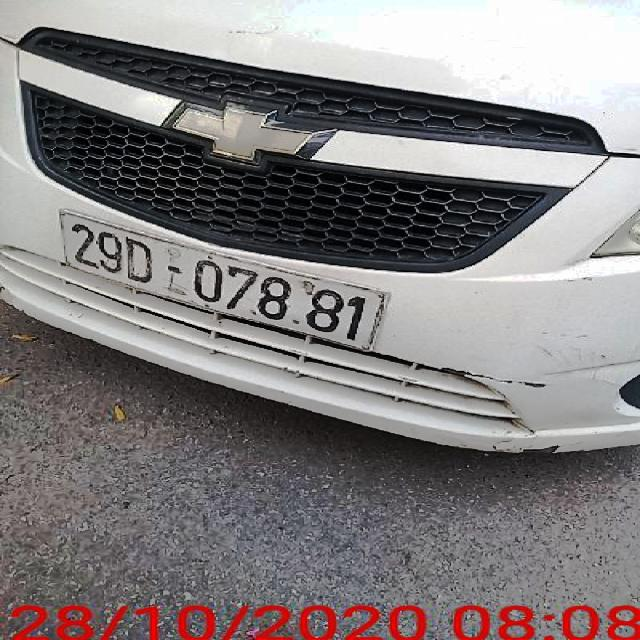license_plate: (57, 210, 396, 353)
